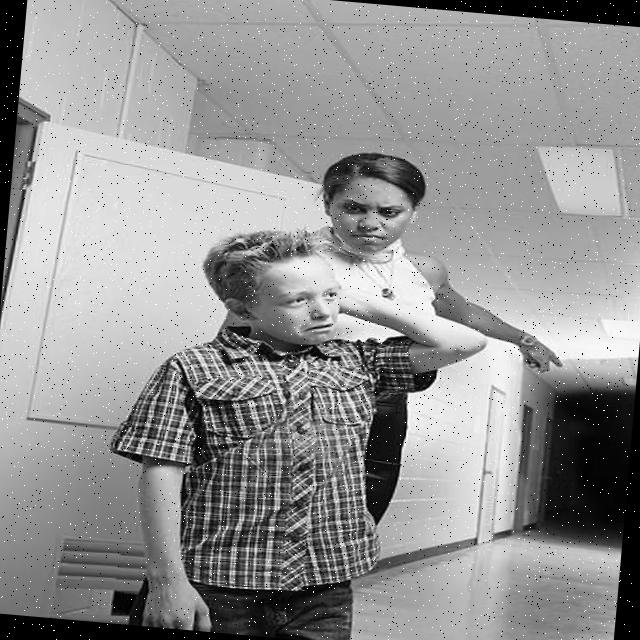Angry: (324, 175, 415, 258)
